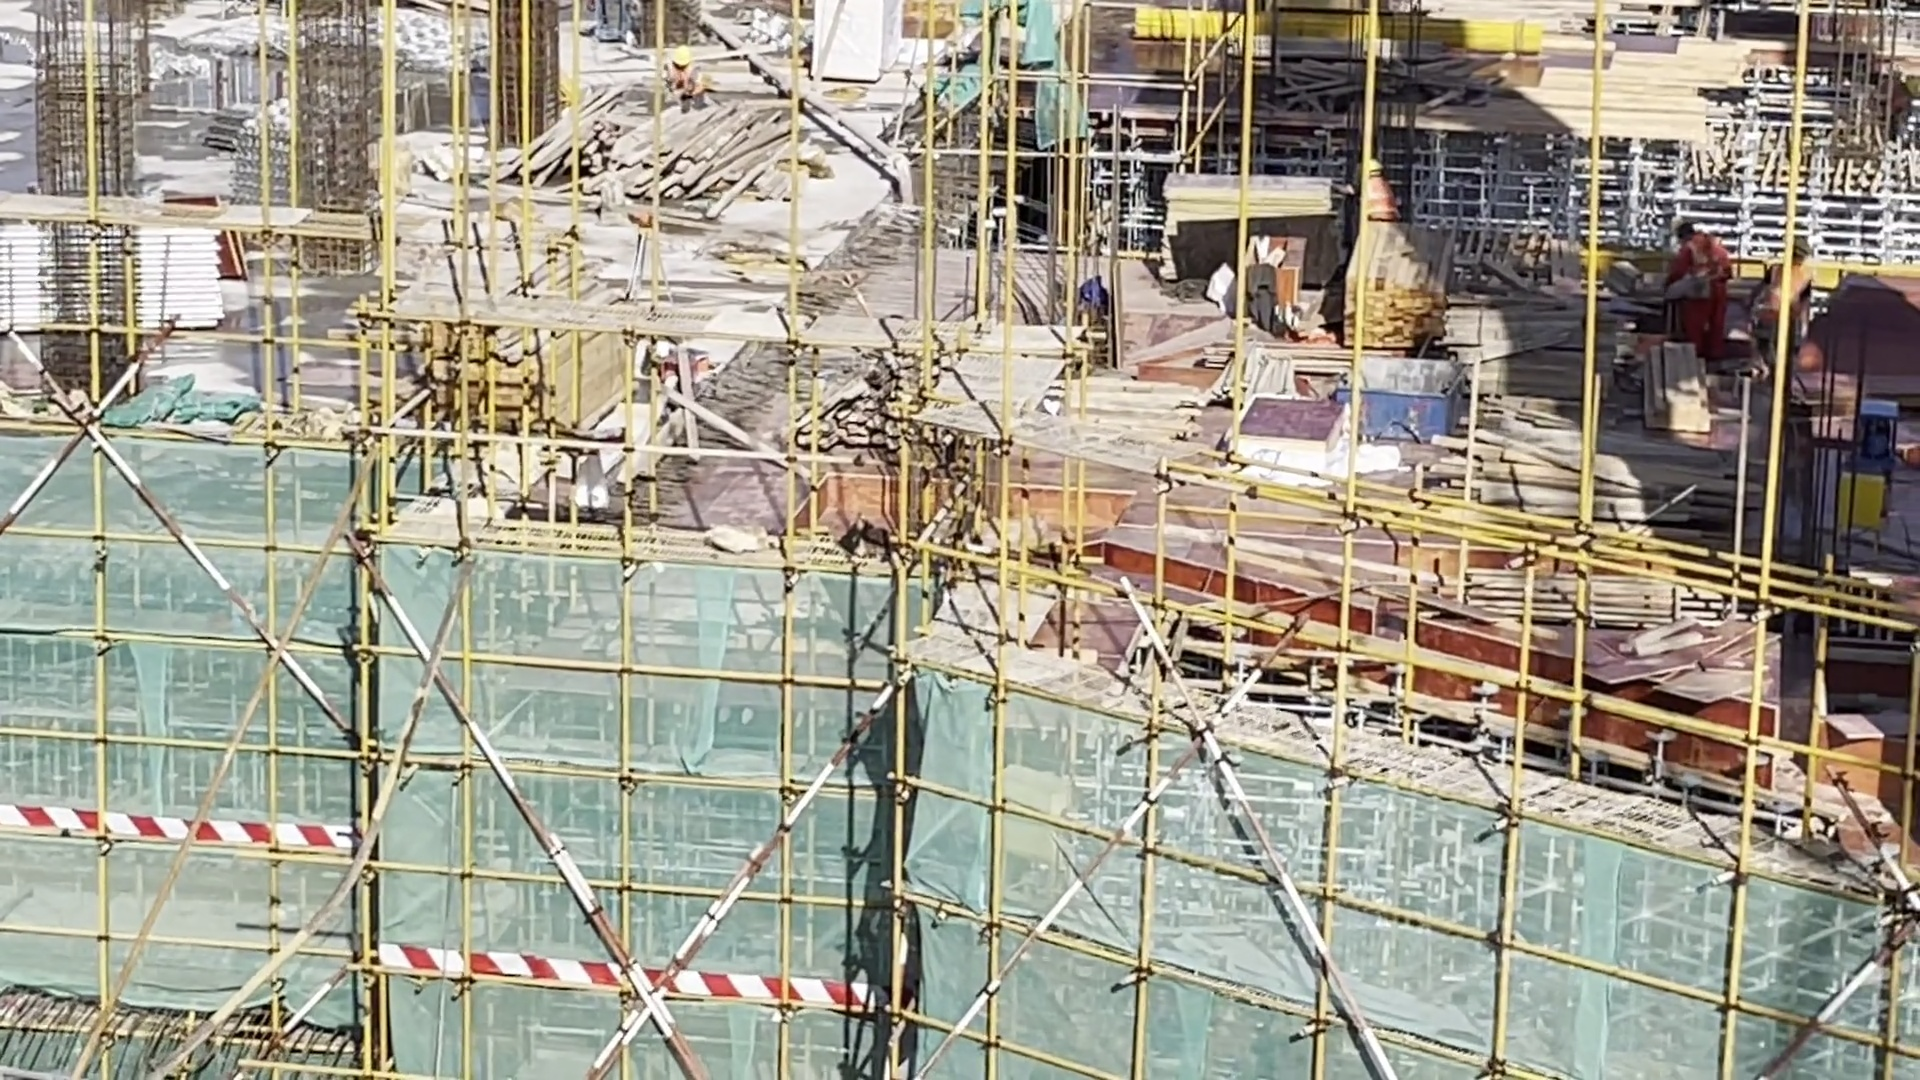board: (1592, 601, 1789, 722)
helmet: (670, 48, 700, 88), (1672, 219, 1696, 245), (1784, 237, 1808, 262), (1366, 157, 1386, 181), (652, 341, 670, 366)
hopper: (1340, 352, 1456, 448)
person: (1758, 233, 1814, 369), (1668, 224, 1734, 340), (1349, 162, 1403, 227), (635, 338, 699, 392), (661, 43, 707, 110)
scaffold: (11, 226, 233, 349), (232, 119, 306, 207)
vest: (1760, 265, 1808, 325), (1681, 247, 1725, 302), (1359, 184, 1397, 216)
wood: (1443, 392, 1736, 556), (391, 305, 619, 455), (533, 109, 752, 233), (1440, 552, 1691, 631), (1325, 246, 1452, 367)
